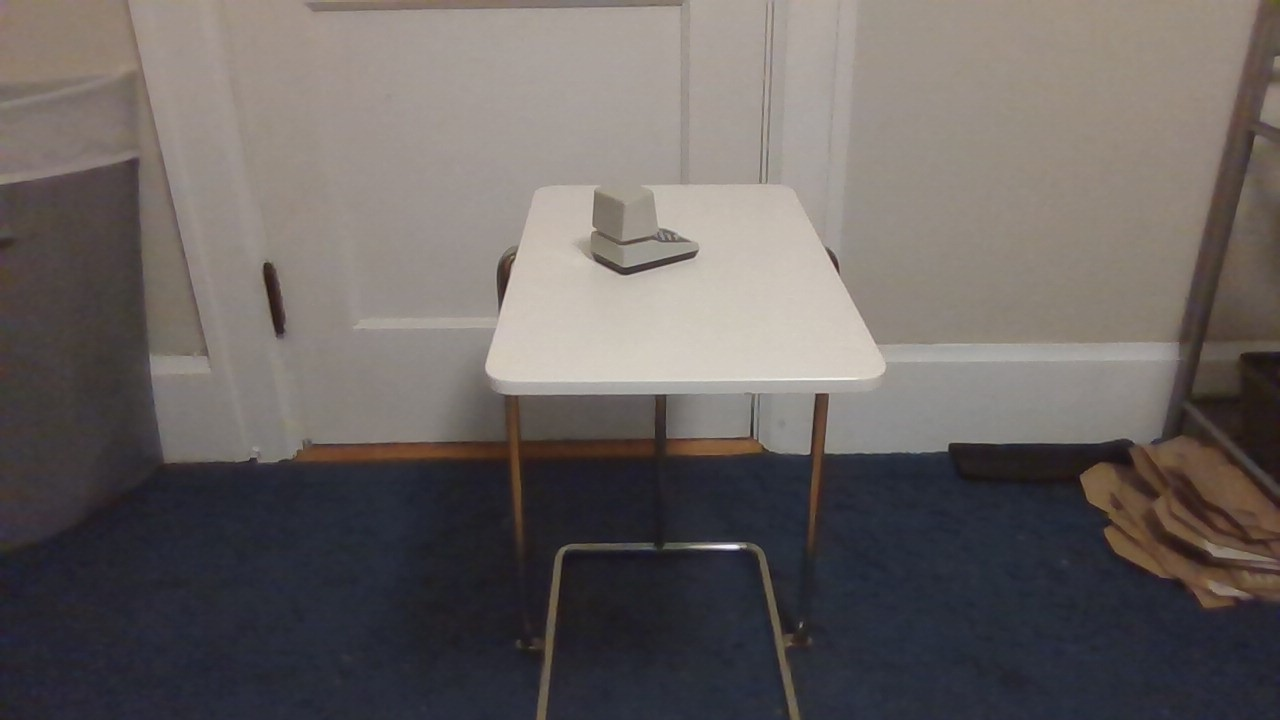Toy: (583, 176, 708, 283)
